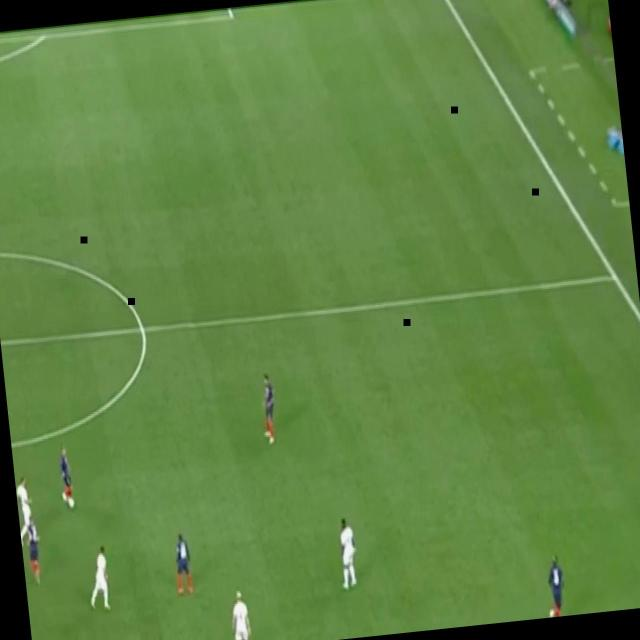player-white: (331, 512, 362, 595), (14, 468, 44, 549), (540, 544, 572, 618), (84, 539, 115, 615), (255, 369, 283, 451), (168, 529, 198, 601), (24, 511, 49, 589), (54, 438, 78, 514), (227, 582, 256, 640)
